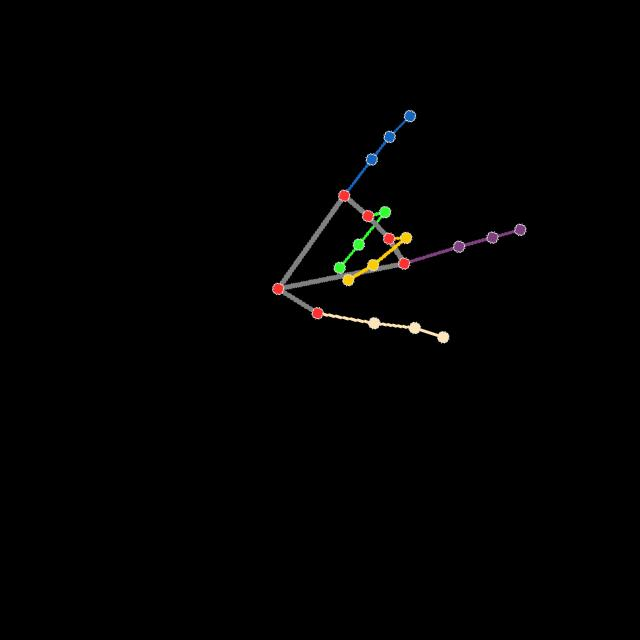spiderman: (270, 108, 528, 344)
